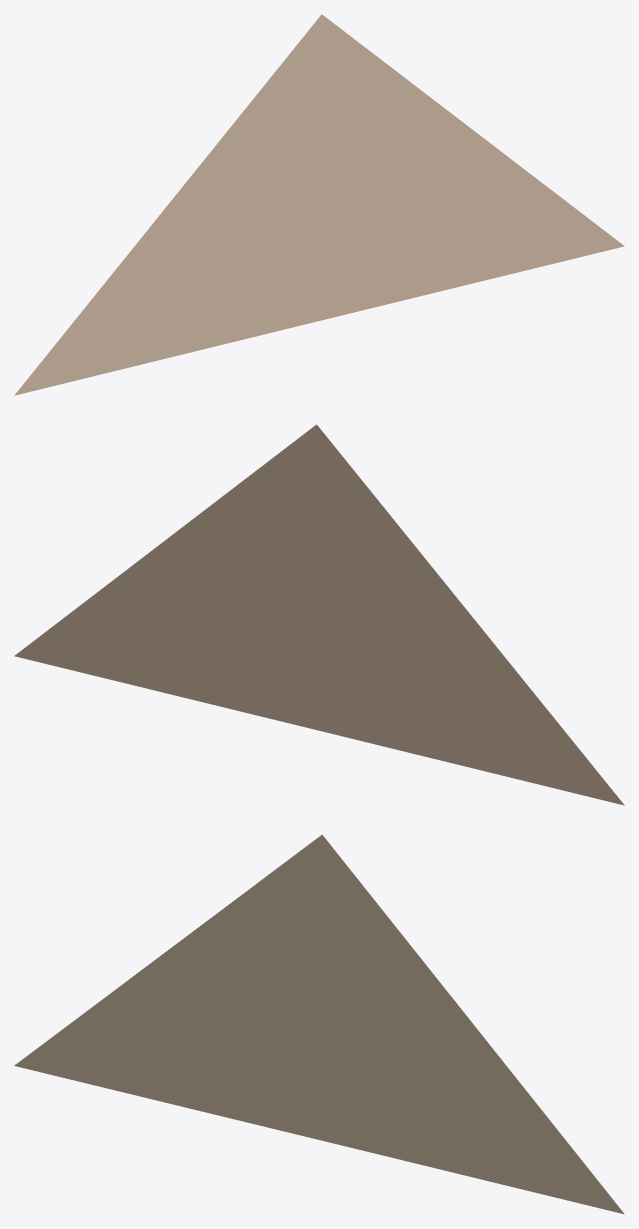
File: SM_L_G_Home_side_Roof.fbx
3 renders of one model, top to bottom at view 1: azimuth 30°, elevation 25°; view 2: azimuth 150°, elevation 25°; view 3: azimuth 330°, elevation 25°, orthographic.
Parts seen in each view (by area): view 1: SM_L_G_Home_Side_roof; view 2: SM_L_G_Home_Side_roof; view 3: SM_L_G_Home_Side_roof.
Part boxes in pixels (<box>): SM_L_G_Home_Side_roof: <box>14,14,624,395</box>; SM_L_G_Home_Side_roof: <box>14,424,624,805</box>; SM_L_G_Home_Side_roof: <box>14,834,624,1214</box>.
Size of the model in its own units: 408 by 195 by 0.2701.
